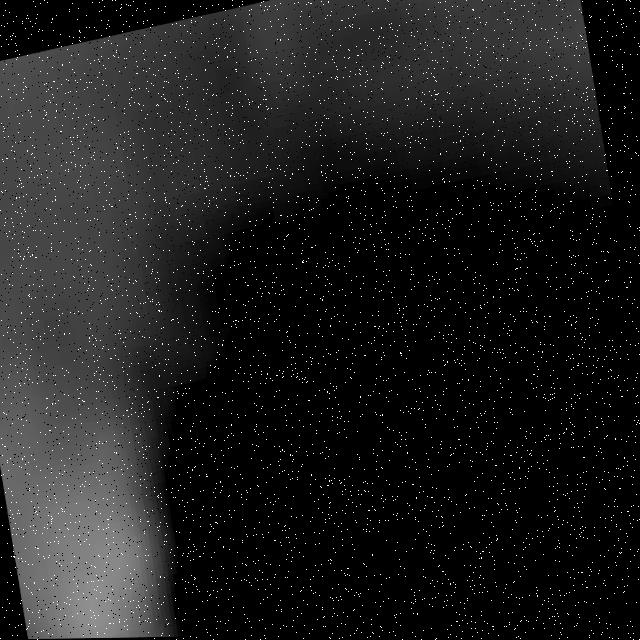person: (1, 163, 249, 640)
